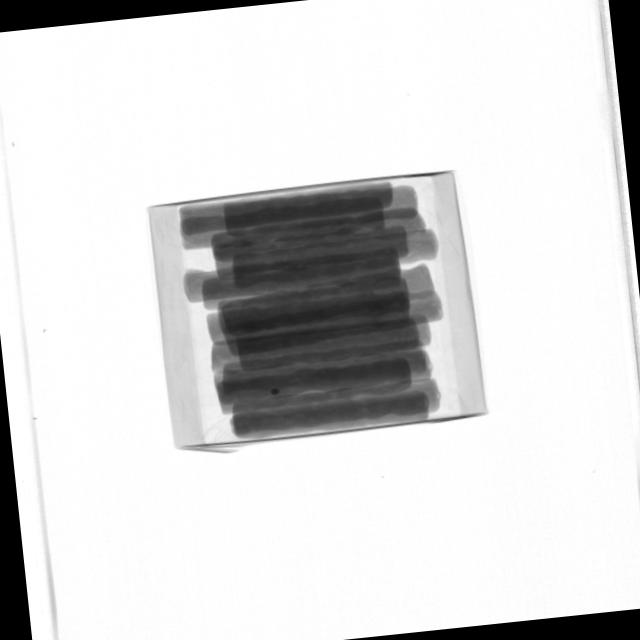ym: (271, 387, 282, 398)
